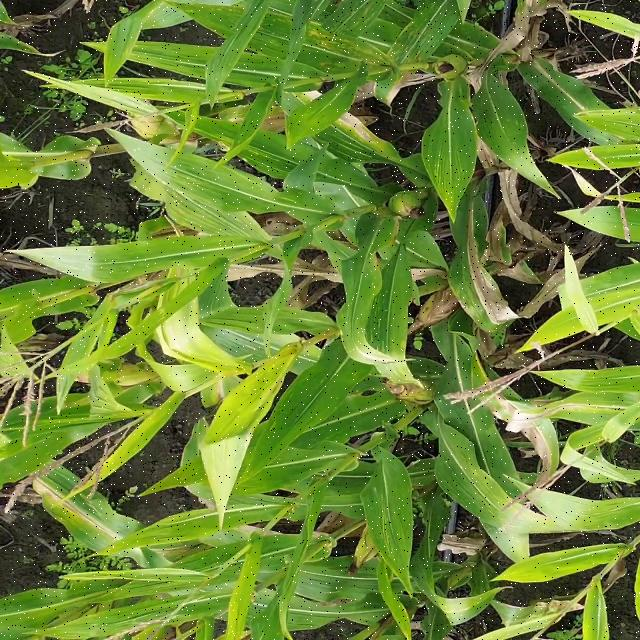gray-leaf-spot: (422, 137, 470, 190), (370, 497, 410, 557), (396, 6, 440, 60), (306, 31, 376, 60), (369, 290, 400, 350), (242, 147, 296, 178), (326, 132, 376, 162)
northern-leaf-blight: (458, 245, 508, 323), (73, 493, 130, 546), (494, 393, 552, 443), (530, 60, 590, 107), (302, 93, 363, 127), (540, 402, 620, 426)
southern-leaf-blight: (213, 2, 289, 47), (483, 117, 532, 157), (271, 380, 306, 432), (329, 4, 384, 34)
